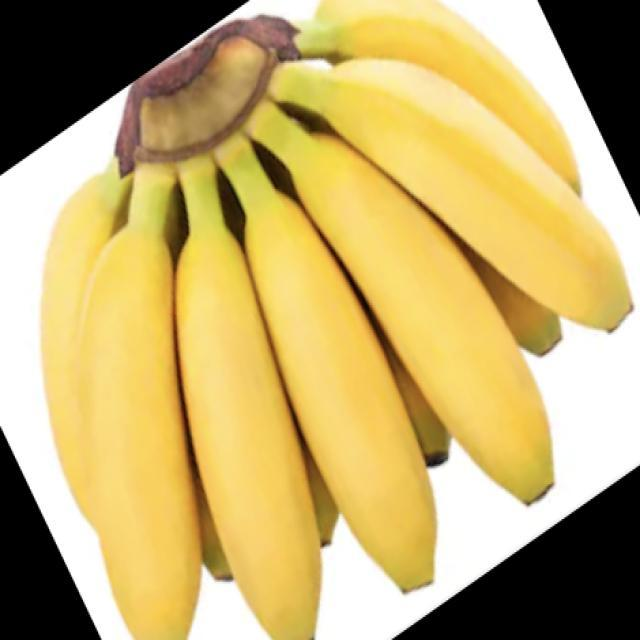Banana: (38, 0, 634, 639)
